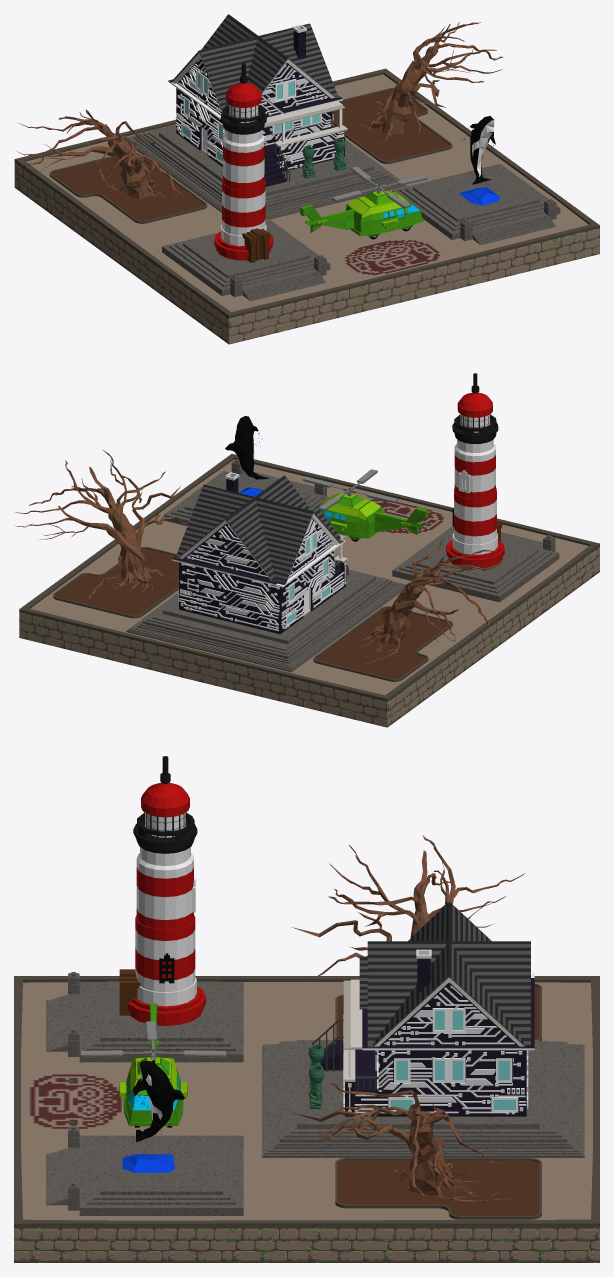
3 views of the same model, one above another, from view 1: azimuth 30°, elevation 25°; view 2: azimuth 150°, elevation 25°; view 3: azimuth 270°, elevation 25° (orthographic). The views are drawn at different scales.
Visible parts, largest first — view 1: Cube.011, Cube.918, OBJRANDOM_LIGHTHOUSE, VEHICLES_HELICOPTER, ANIMAL_ORCA; view 2: Cube.011, Cube.918, OBJRANDOM_LIGHTHOUSE, VEHICLES_HELICOPTER, ANIMAL_ORCA; view 3: Cube.011, Cube.918, OBJRANDOM_LIGHTHOUSE, VEHICLES_HELICOPTER, ANIMAL_ORCA.
Boxes of the visible parts, x1,y1,x2,y2 form: Cube.011: (14, 22, 599, 344); Cube.918: (168, 14, 347, 186); OBJRANDOM_LIGHTHOUSE: (214, 63, 273, 263); VEHICLES_HELICOPTER: (300, 166, 427, 239); ANIMAL_ORCA: (459, 116, 499, 205); Cube.011: (15, 450, 599, 727); Cube.918: (171, 472, 348, 634); OBJRANDOM_LIGHTHOUSE: (446, 373, 504, 568); VEHICLES_HELICOPTER: (303, 469, 427, 541); ANIMAL_ORCA: (225, 416, 270, 496); Cube.011: (14, 835, 599, 1262); Cube.918: (312, 902, 534, 1116); OBJRANDOM_LIGHTHOUSE: (119, 756, 205, 1025); VEHICLES_HELICOPTER: (80, 1003, 226, 1127); ANIMAL_ORCA: (122, 1060, 184, 1172).
Bounding box in the file's own units: 5099 × 2476 × 4000.
Materials: 38 (5 with a texture image).
